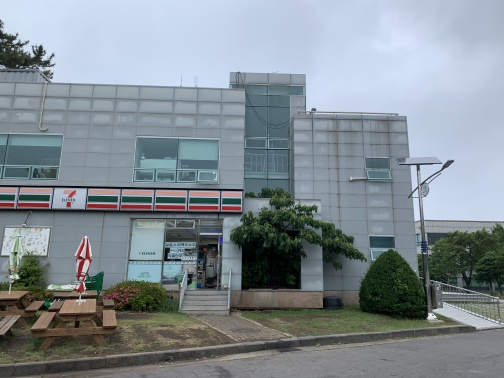Global House: (3, 62, 420, 322)
Second Library: (416, 219, 504, 302)
